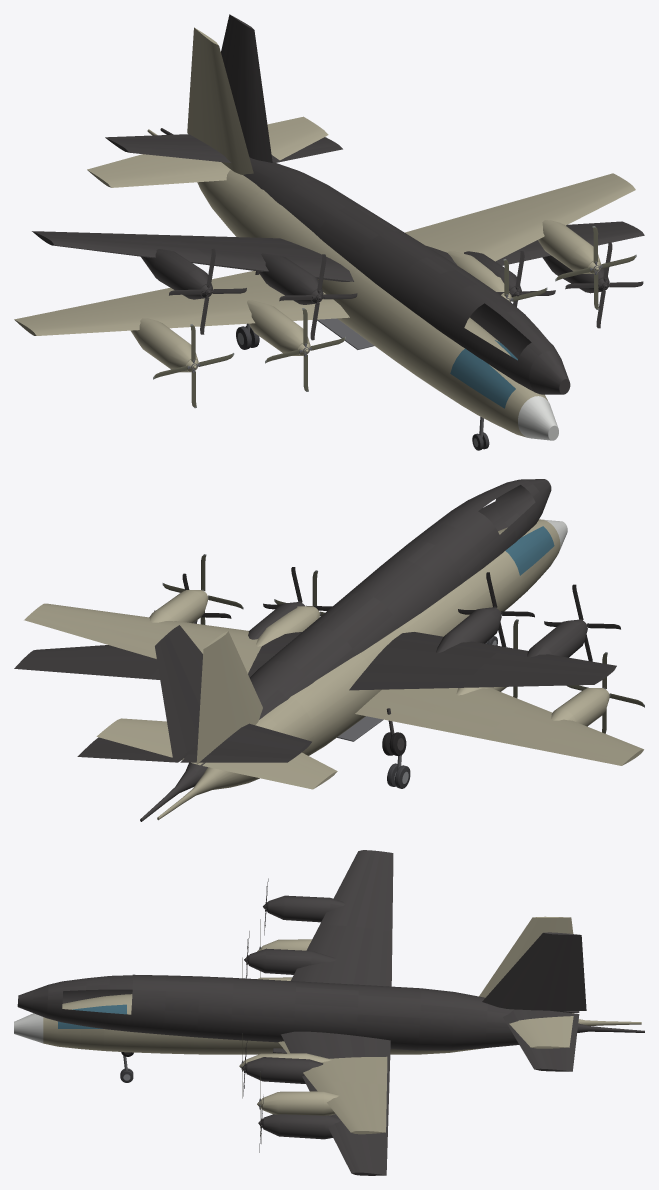
The model's file is maritimePatrol__p_3c_orion.glb.
The picture shows the model from 3 angles, top to bottom: view 1: azimuth 30°, elevation 25°; view 2: azimuth 150°, elevation 25°; view 3: azimuth 270°, elevation 25°; orthographic projection. The views are drawn at different scales.
Visible parts, largest first — view 1: Fuselage_Mesh, Wreck, Propeller_3_Mesh, Propeller_Mesh, Propeller_1_Mesh; view 2: Wreck, Fuselage_Mesh, Propeller_3_Mesh; view 3: Wreck, Fuselage_Mesh.
Boxes of the visible parts, <box> form: Fuselage_Mesh: <box>14,27,635,450</box>; Wreck: <box>32,14,644,394</box>; Propeller_3_Mesh: <box>555,226,636,309</box>; Propeller_Mesh: <box>265,308,345,391</box>; Propeller_1_Mesh: <box>153,324,234,408</box>; Wreck: <box>14,479,620,821</box>; Fuselage_Mesh: <box>24,519,643,820</box>; Propeller_3_Mesh: <box>162,554,243,624</box>; Wreck: <box>17,850,644,1175</box>; Fuselage_Mesh: <box>14,916,641,1134</box>.
Size of what is drawn, in the model's own units: 30.88 by 10.3 by 35.76.
